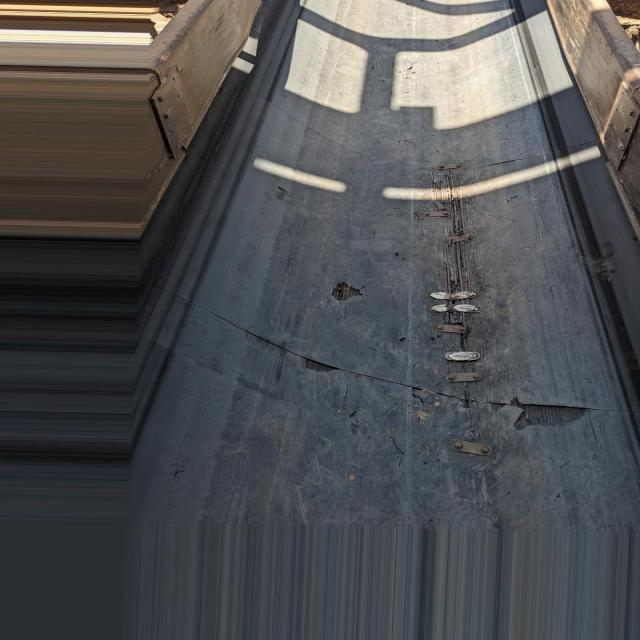Tear: (194, 308, 602, 431), (481, 151, 543, 172), (331, 279, 369, 304), (273, 180, 301, 205)
patch work: (411, 156, 498, 388), (438, 426, 514, 466)
